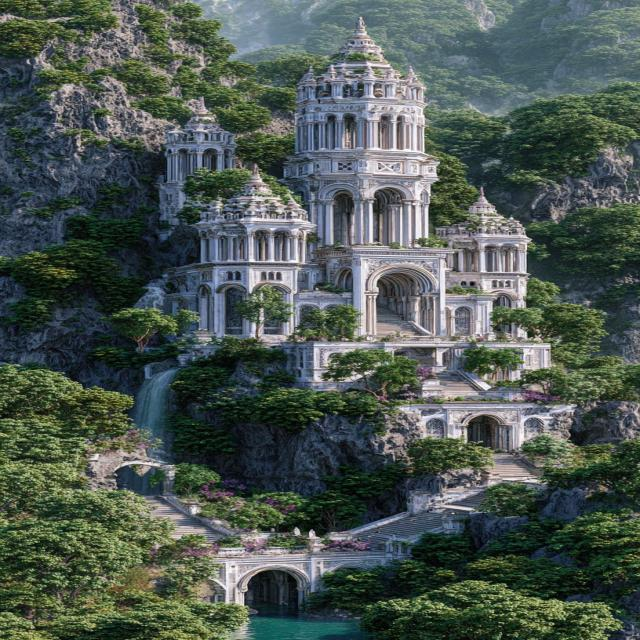castle: (89, 13, 622, 463)
